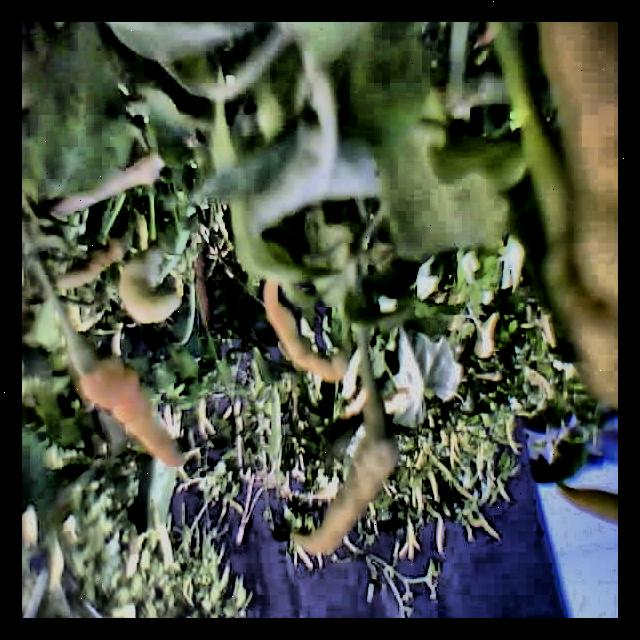Cabai: (74, 338, 195, 487), (245, 269, 350, 388)
